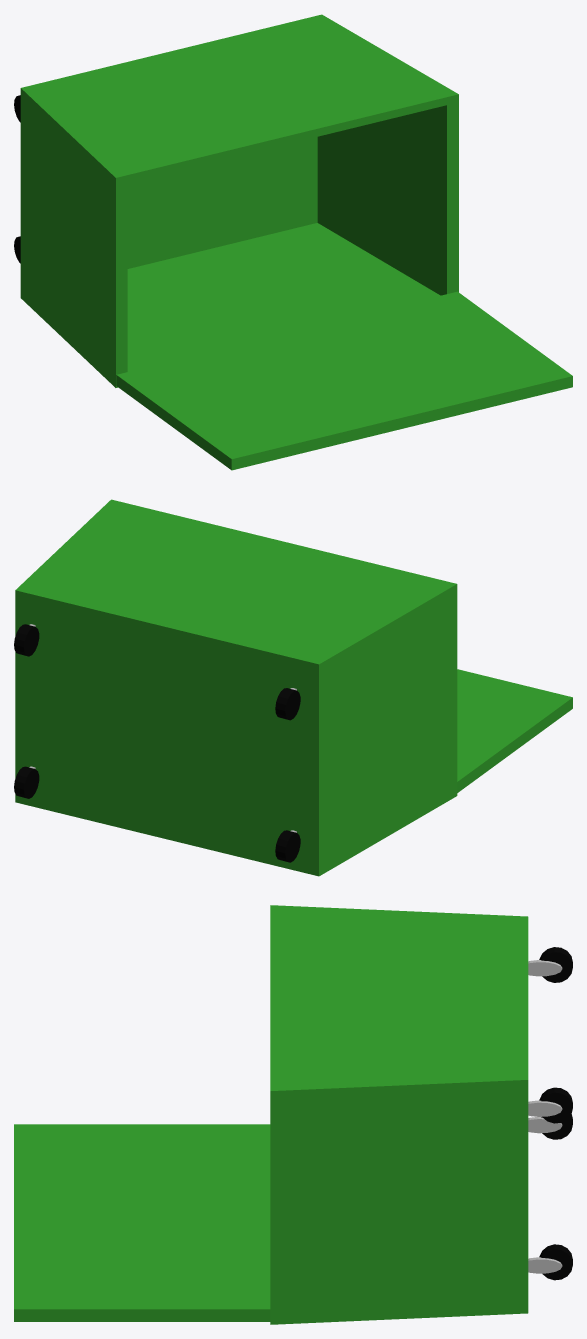
The model's file is Contenedor 1.fbx.
The picture shows the model from 3 angles, top to bottom: view 1: azimuth 30°, elevation 25°; view 2: azimuth 150°, elevation 25°; view 3: azimuth 270°, elevation 25°; orthographic projection. The views are drawn at different scales.
Parts seen in each view (by area): view 1: Cube, Cube.001; view 2: Cube, Cube.001, Cylinder, Cylinder.006, Cylinder.002, Cylinder.004; view 3: Cube, Cube.001, Cylinder, Cylinder.004, Cylinder.002.
Part boxes in pixels (x1,y1,x2,y2): Cube: (20,14,458,387); Cube.001: (116,291,572,470); Cube: (15,499,457,876); Cube.001: (457,669,572,792); Cylinder: (14,624,39,656); Cylinder.006: (275,830,300,862); Cylinder.002: (275,688,300,720); Cylinder.004: (14,766,39,798); Cube: (270,905,528,1324); Cube.001: (14,1124,270,1321); Cylinder: (539,1087,572,1123); Cylinder.004: (539,1244,572,1280); Cylinder.002: (539,947,572,982).
Bounding box in the file's own units: 49.63 × 29.07 × 63.02.
